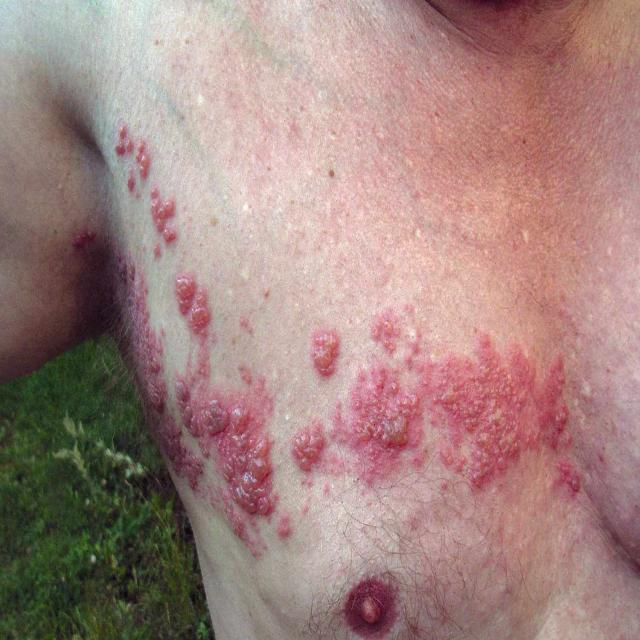herpes zoster: (294, 223, 586, 531), (95, 109, 293, 560)
